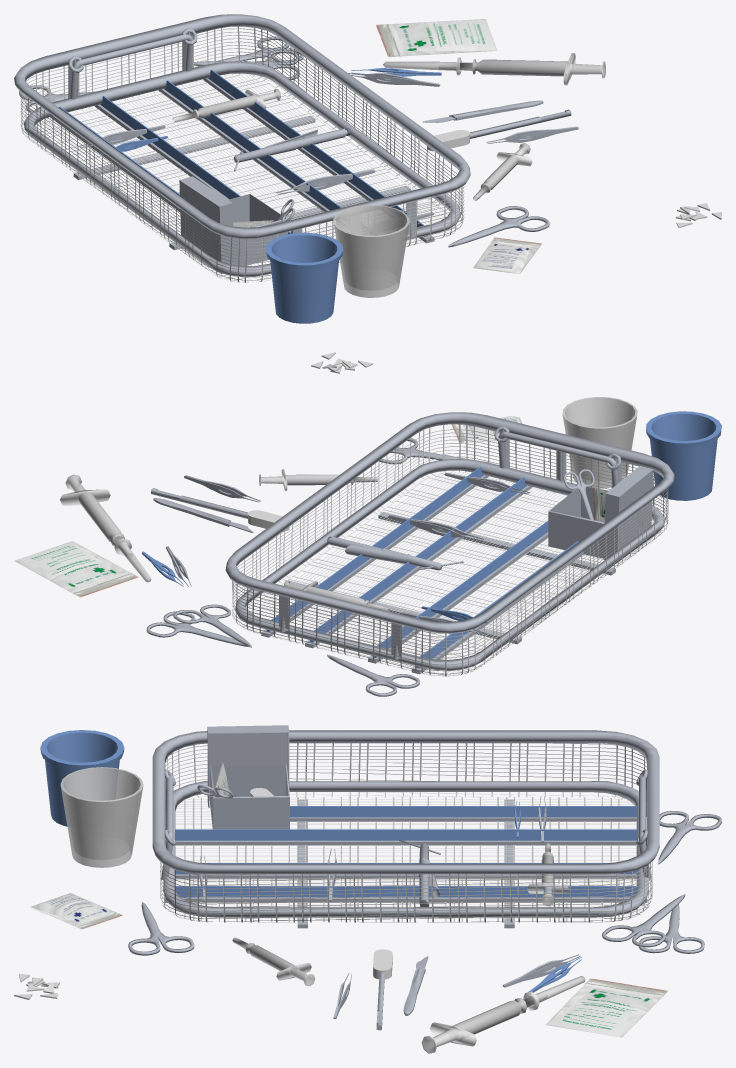
Rendered from InstrumentenSet.fbx.
The picture shows the model from 3 angles, top to bottom: view 1: azimuth 30°, elevation 25°; view 2: azimuth 150°, elevation 25°; view 3: azimuth 270°, elevation 25°; orthographic projection. The views are drawn at different scales.
Visible parts, largest first — view 1: InstrumentenSet; view 2: InstrumentenSet; view 3: InstrumentenSet.
Boxes of the visible parts, box(x1,y1,x2,y2) form: InstrumentenSet: box(14, 14, 721, 323); InstrumentenSet: box(14, 352, 721, 696); InstrumentenSet: box(14, 725, 721, 1053).
Bounding box in the file's own units: 54.63 × 7.56 × 61.09.
